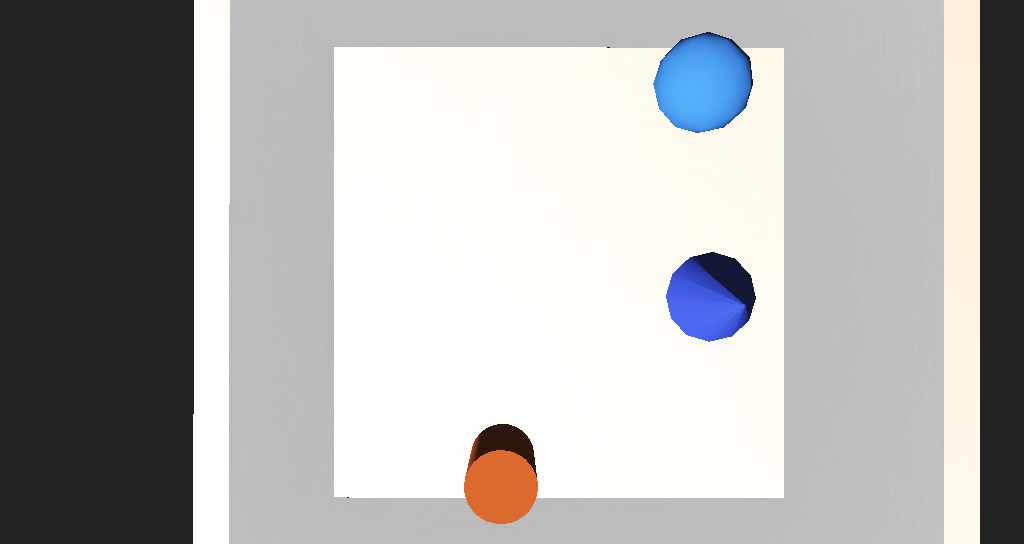cone: (438, 341, 492, 384)
cylinder: (579, 258, 647, 305)
sphere: (569, 157, 630, 205)
